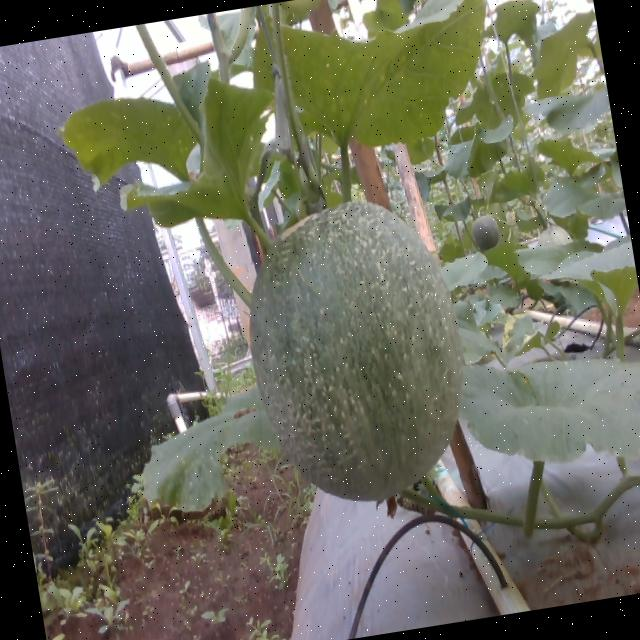melon: (252, 202, 464, 501)
